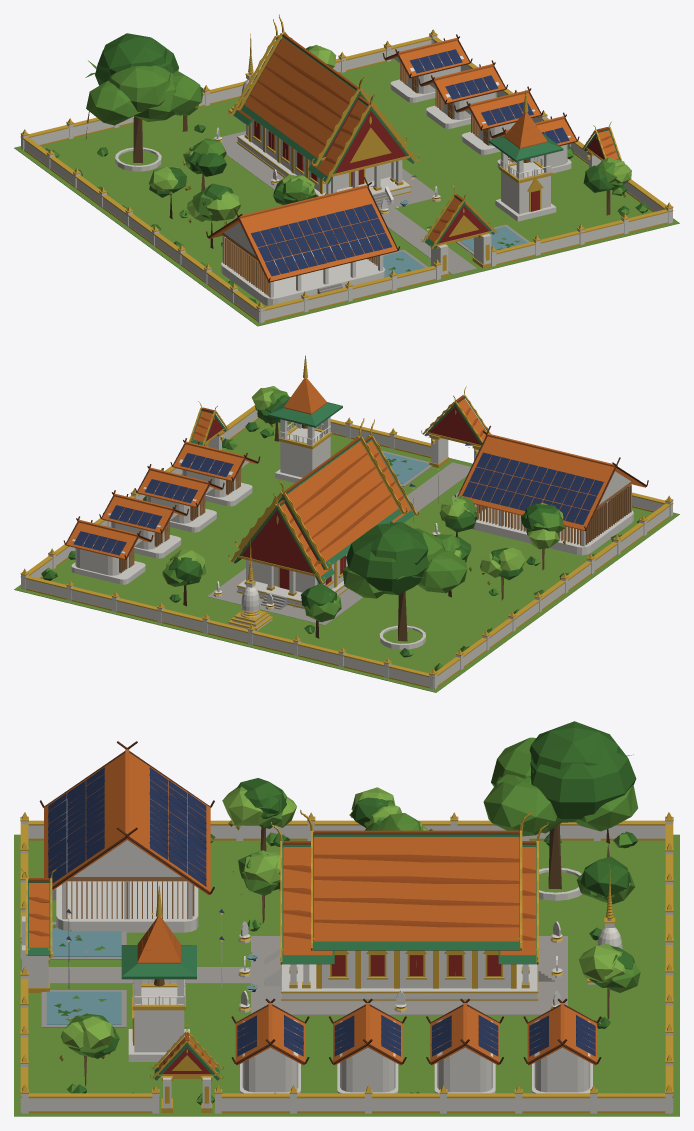
Rendered from temple_2.glb.
3 renders of one model, top to bottom at view 1: azimuth 30°, elevation 25°; view 2: azimuth 150°, elevation 25°; view 3: azimuth 270°, elevation 25°, orthographic. The views are drawn at different scales.
Parts seen in each view (by area): view 1: body; view 2: body; view 3: body.
Boxes of the visible parts, box(x1,y1,x2,y2) form: body: box(14, 14, 679, 326); body: box(14, 355, 679, 692); body: box(14, 721, 679, 1116).
Bounding box in the file's own units: 47.9 × 13.4 × 47.9.
